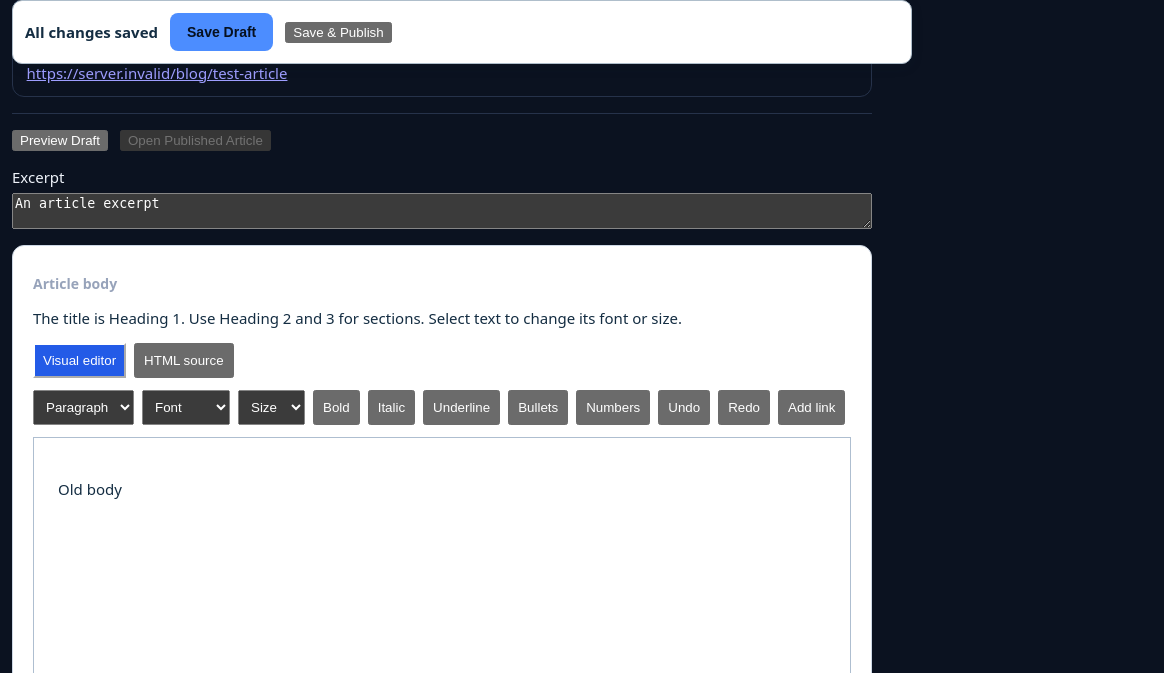
blog save flow › keeps edits and never publishes when save fails
The width and height of the screenshot is (1164, 673).
(page scrolled)
Expected: the text "All changes saved" is shown, [25,22,158,42]
Click the button "HTML source" at (184, 360), box [134,343,234,378]
(page scrolled)
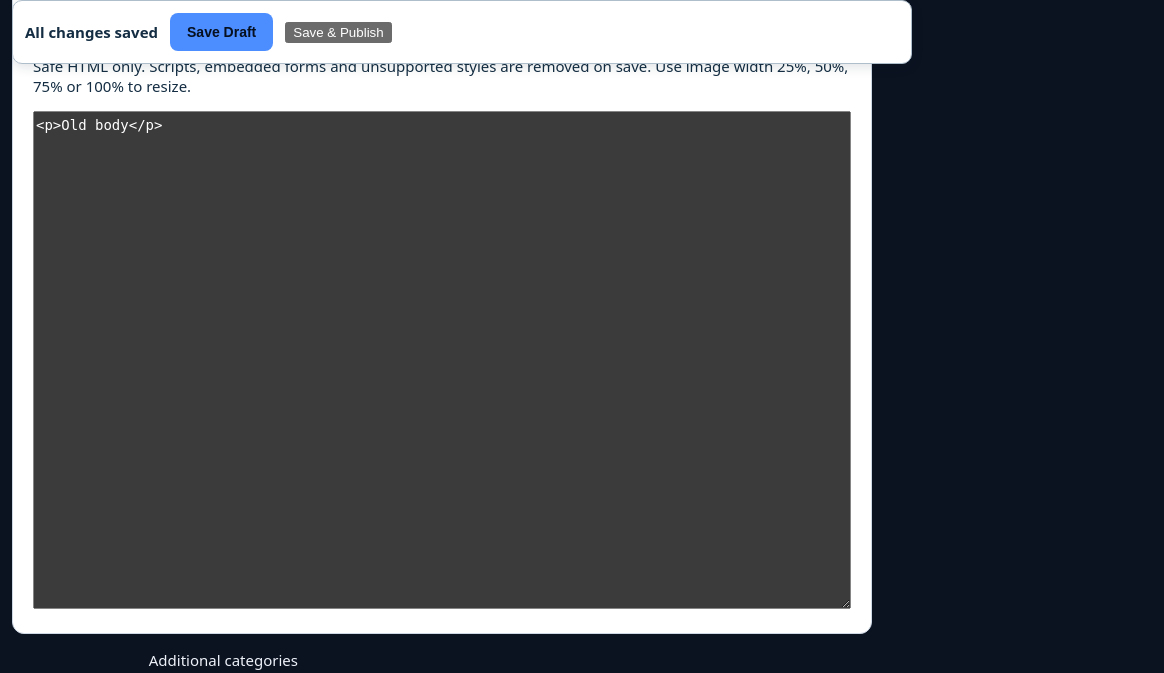
Replace the text in the text box named "HTML source" with "<h2>New section</h2><p><strong>Formatted text</strong></p>" at (442, 360), box [33,111,851,609]
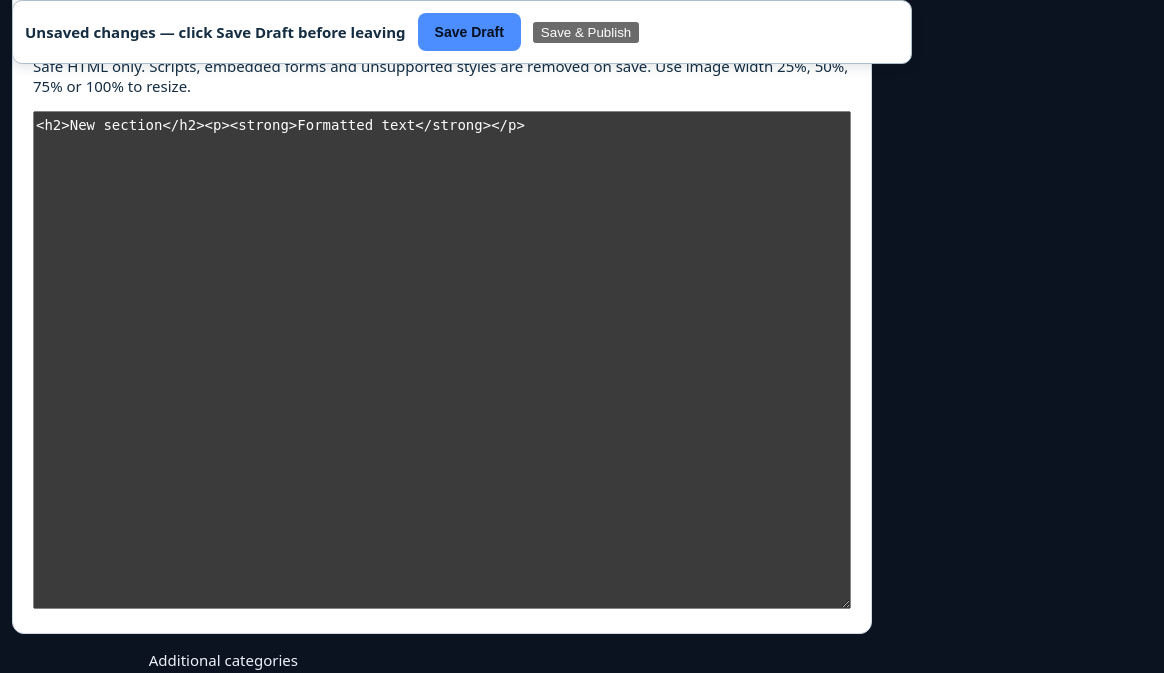
Click the button "Save & Publish" at (586, 32), box [533,22,639,42]
(page scrolled)
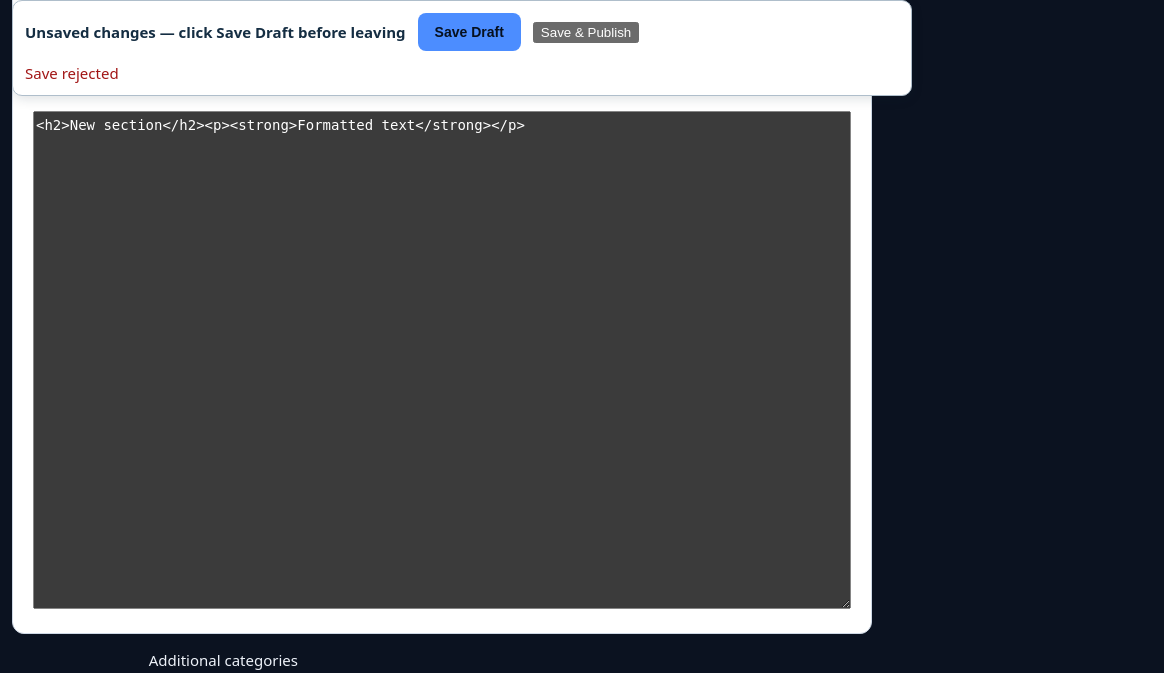
Expected: the text "Unsaved changes — click Save Draft before leaving" is shown, [25,22,406,42]
Expected: the message "Save rejected" is shown, [25,63,119,83]
